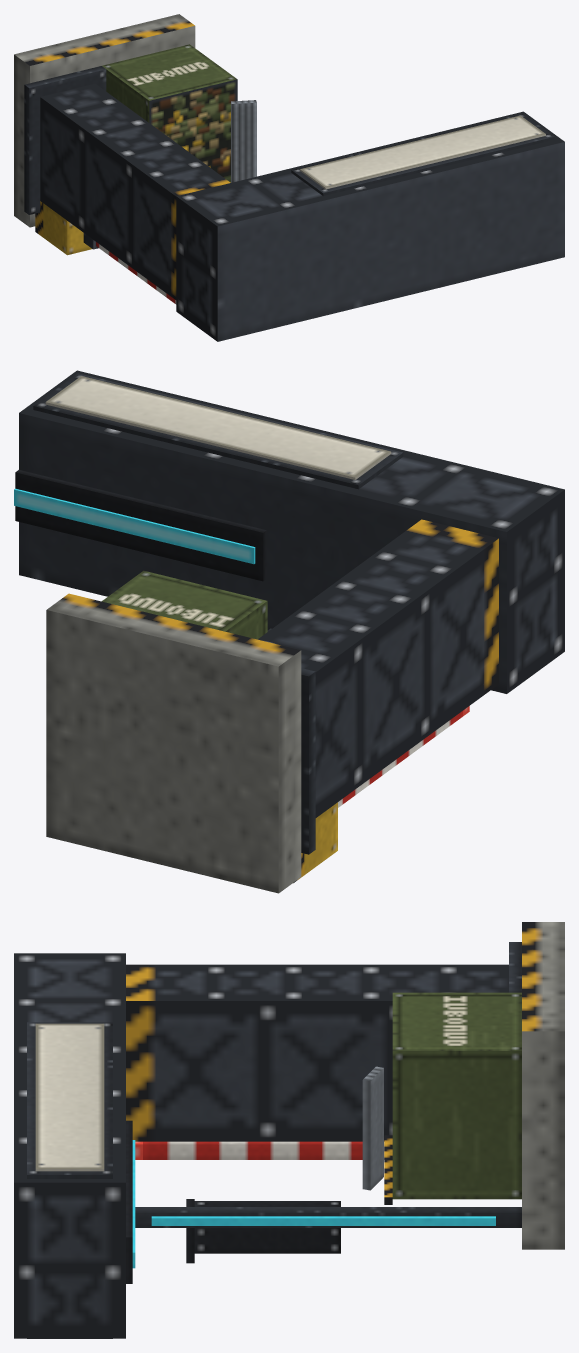
Rendered from supply_receiving_gate_right.obj.
3 renders of one model, top to bottom at view 1: azimuth 30°, elevation 25°; view 2: azimuth 150°, elevation 25°; view 3: azimuth 270°, elevation 25°, orthographic. The views are drawn at different scales.
Visible parts, largest first — view 1: supply_receiving_gate_right_Beam, supply_receiving_gate_right_Column_0, supply_receiving_gate_right_Bin_0, supply_receiving_gate_right_Footing_0, supply_receiving_gate_right_Nameplate_1, supply_receiving_gate_right_Column_plate_0, supply_receiving_gate_right_Nameplate_frame_1, supply_receiving_gate_right_Tip_chute_0, supply_receiving_gate_right_Barrier_housing_0; view 2: supply_receiving_gate_right_Footing_0, supply_receiving_gate_right_Beam, supply_receiving_gate_right_Column_0, supply_receiving_gate_right_Nameplate_1, supply_receiving_gate_right_Scanner_housing, supply_receiving_gate_right_Bin_0, supply_receiving_gate_right_Nameplate_frame_1, supply_receiving_gate_right_Scanner_bar, supply_receiving_gate_right_Column_plate_0, supply_receiving_gate_right_Barrier_housing_0, supply_receiving_gate_right_Barrier_arm_0; view 3: supply_receiving_gate_right_Column_0, supply_receiving_gate_right_Beam, supply_receiving_gate_right_Bin_0, supply_receiving_gate_right_Footing_0, supply_receiving_gate_right_Nameplate_1, supply_receiving_gate_right_Scanner_post_0, supply_receiving_gate_right_Signal_head_0, supply_receiving_gate_right_Barrier_arm_0, supply_receiving_gate_right_Nameplate_frame_1, supply_receiving_gate_right_Scanner_strip_0, supply_receiving_gate_right_Tip_chute_0, supply_receiving_gate_right_Scanner_housing (+2 smaller).
Part boxes in pixels (left/top/right/bottom): supply_receiving_gate_right_Beam: left=176, top=111, right=564, bottom=341; supply_receiving_gate_right_Column_0: left=40, top=83, right=230, bottom=299; supply_receiving_gate_right_Bin_0: left=102, top=44, right=237, bottom=182; supply_receiving_gate_right_Footing_0: left=14, top=14, right=195, bottom=227; supply_receiving_gate_right_Nameplate_1: left=300, top=115, right=545, bottom=189; supply_receiving_gate_right_Column_plate_0: left=24, top=66, right=106, bottom=214; supply_receiving_gate_right_Nameplate_frame_1: left=291, top=113, right=554, bottom=195; supply_receiving_gate_right_Tip_chute_0: left=231, top=100, right=256, bottom=182; supply_receiving_gate_right_Barrier_housing_0: left=35, top=201, right=91, bottom=255; supply_receiving_gate_right_Footing_0: left=46, top=593, right=301, bottom=893; supply_receiving_gate_right_Beam: left=19, top=370, right=564, bottom=693; supply_receiving_gate_right_Column_0: left=258, top=519, right=498, bottom=817; supply_receiving_gate_right_Nameplate_1: left=45, top=376, right=391, bottom=479; supply_receiving_gate_right_Scanner_housing: left=15, top=470, right=266, bottom=581; supply_receiving_gate_right_Bin_0: left=101, top=570, right=267, bottom=639; supply_receiving_gate_right_Nameplate_frame_1: left=33, top=373, right=403, bottom=489; supply_receiving_gate_right_Scanner_bar: left=14, top=488, right=255, bottom=564; supply_receiving_gate_right_Column_plate_0: left=301, top=668, right=315, bottom=854; supply_receiving_gate_right_Barrier_housing_0: left=293, top=802, right=337, bottom=883; supply_receiving_gate_right_Barrier_arm_0: left=338, top=711, right=462, bottom=807; supply_receiving_gate_right_Column_0: left=126, top=964, right=508, bottom=1141; supply_receiving_gate_right_Beam: left=14, top=953, right=125, bottom=1338; supply_receiving_gate_right_Bin_0: left=392, top=992, right=521, bottom=1199; supply_receiving_gate_right_Footing_0: left=522, top=922, right=564, bottom=1249; supply_receiving_gate_right_Nameplate_1: left=35, top=1023, right=104, bottom=1171; supply_receiving_gate_right_Scanner_post_0: left=135, top=1207, right=521, bottom=1227; supply_receiving_gate_right_Signal_head_0: left=194, top=1201, right=340, bottom=1253; supply_receiving_gate_right_Barrier_arm_0: left=143, top=1141, right=384, bottom=1159; supply_receiving_gate_right_Nameplate_frame_1: left=27, top=1022, right=112, bottom=1178; supply_receiving_gate_right_Scanner_strip_0: left=151, top=1216, right=495, bottom=1225; supply_receiving_gate_right_Tip_chute_0: left=362, top=1066, right=383, bottom=1190; supply_receiving_gate_right_Scanner_housing: left=126, top=1120, right=132, bottom=1283.
Bounding box in the file's own units: 2 × 0.9219 × 2.
